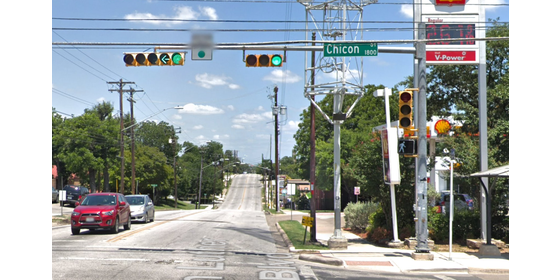left turn yield on green sign: (191, 30, 213, 60)
street name sign: (323, 39, 381, 57)
